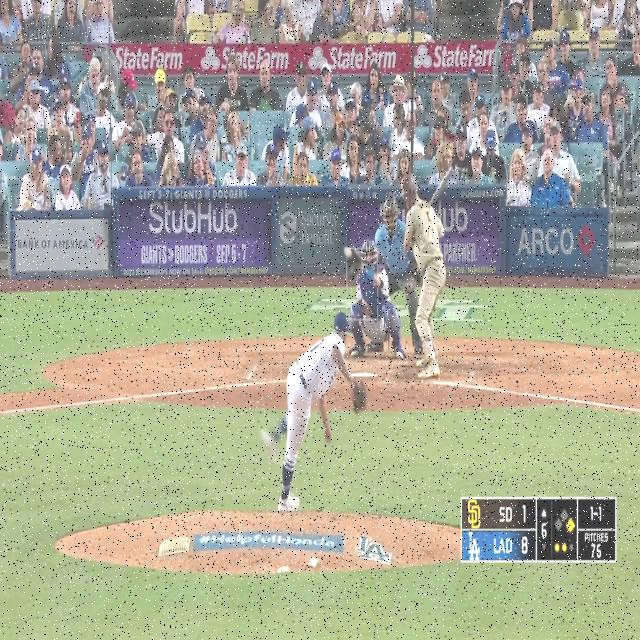baseball: (344, 246, 352, 258)
